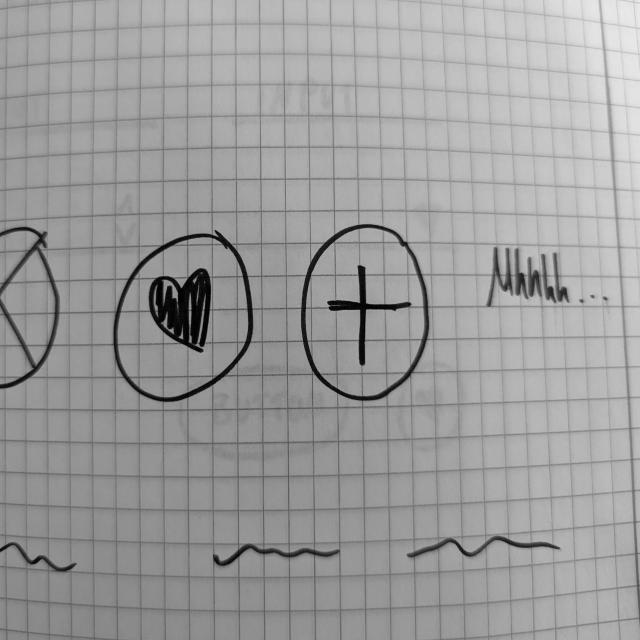icon-button: (111, 228, 257, 406), (299, 221, 435, 406)
image: (1, 224, 64, 394)
label: (484, 244, 616, 314)
text: (403, 530, 565, 564), (214, 540, 345, 572), (1, 536, 85, 580)
